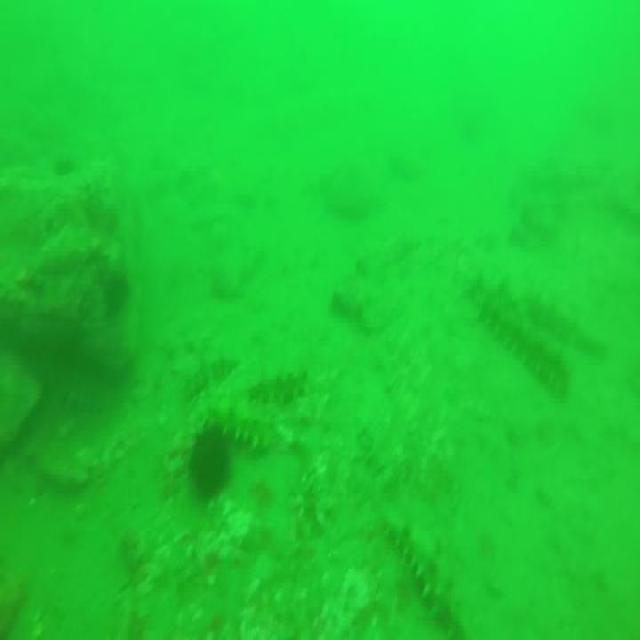echinus: (186, 427, 233, 499)
holothurian: (473, 288, 578, 387), (468, 281, 609, 354), (388, 516, 471, 640), (227, 363, 311, 412), (193, 416, 267, 460)
